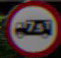Heavy Vehicles: (3, 4, 54, 48)
